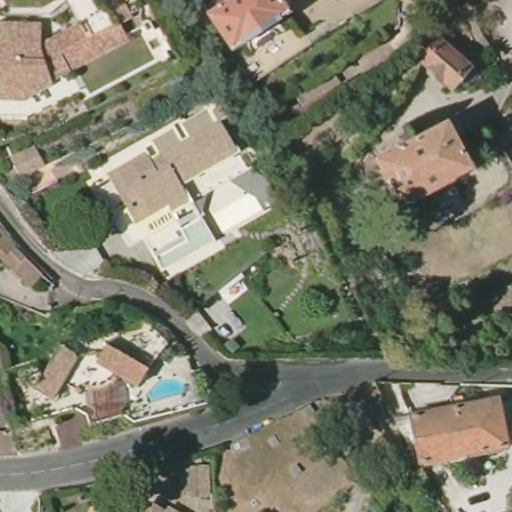pool: (143, 379, 192, 401)
